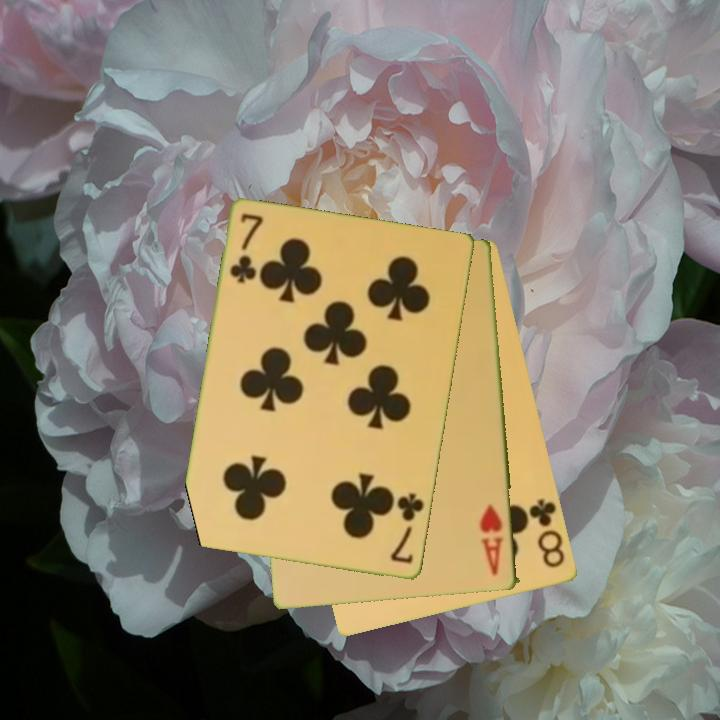7c: (387, 489, 427, 567), (226, 210, 267, 286)
8c: (526, 495, 568, 571)
Ah: (477, 501, 507, 579)
